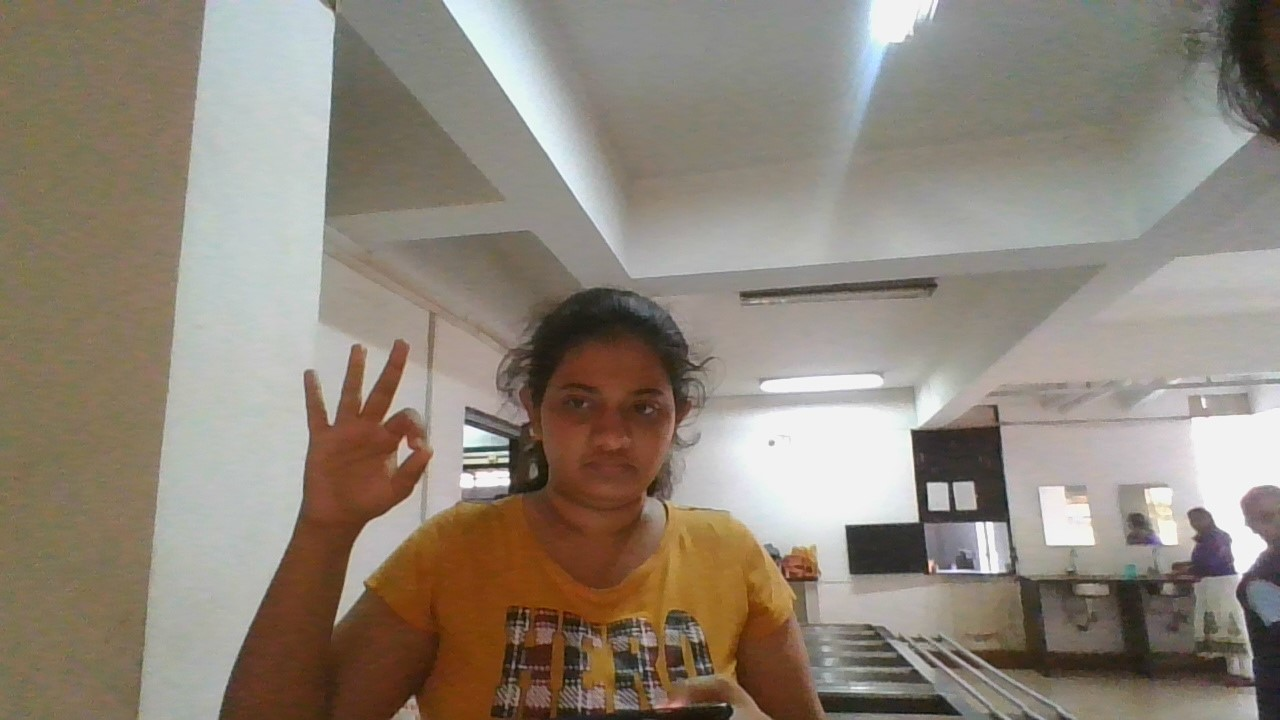f: (283, 335, 438, 544)
